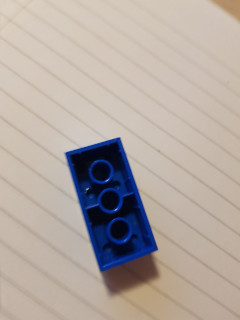2x4 blue: (64, 135, 160, 271)
